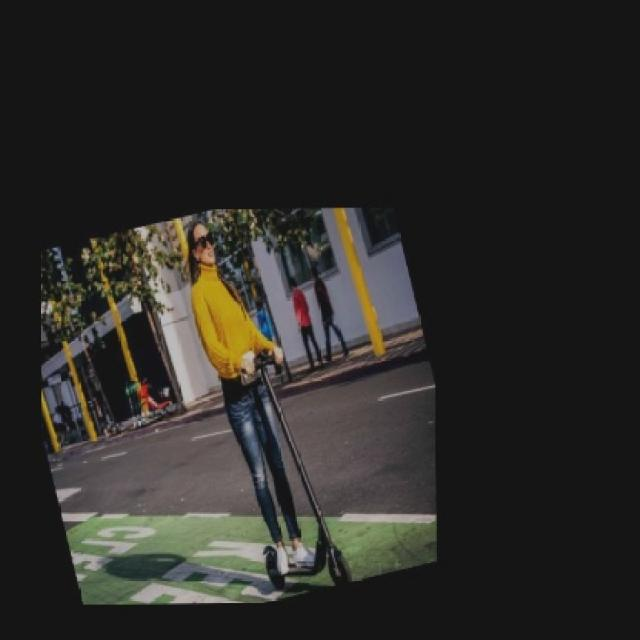bare_head: (178, 216, 230, 272)
human: (171, 214, 304, 558)
kickboard: (248, 522, 367, 595)
